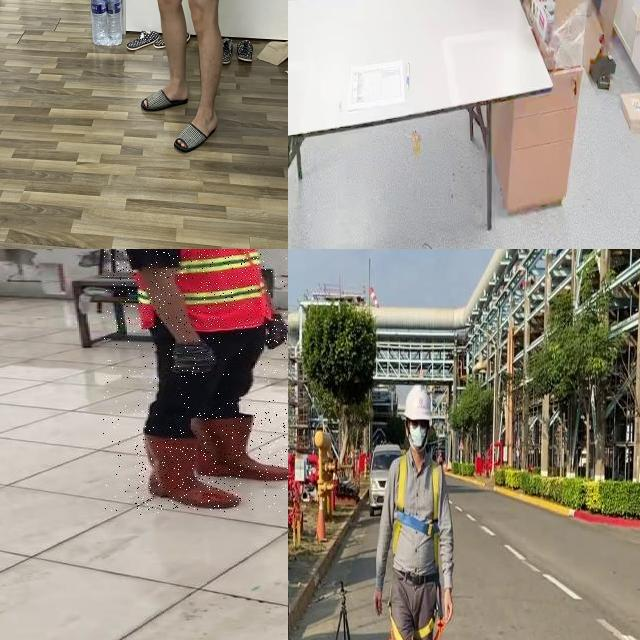Harness: (393, 454, 442, 566), (406, 617, 445, 640)
Sandals: (173, 101, 220, 155), (140, 72, 190, 114)
boots: (135, 430, 242, 510), (194, 412, 288, 480)
person: (103, 249, 288, 515)
vest: (112, 249, 269, 328)
